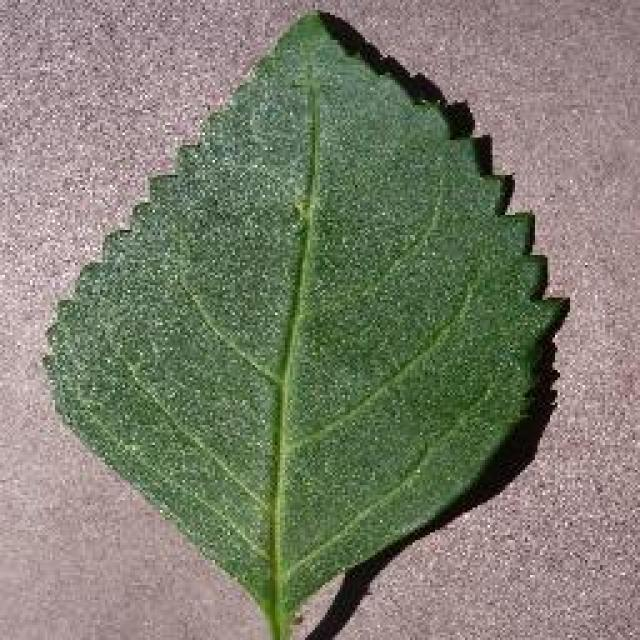Cherry___healthy: (71, 39, 525, 582)
